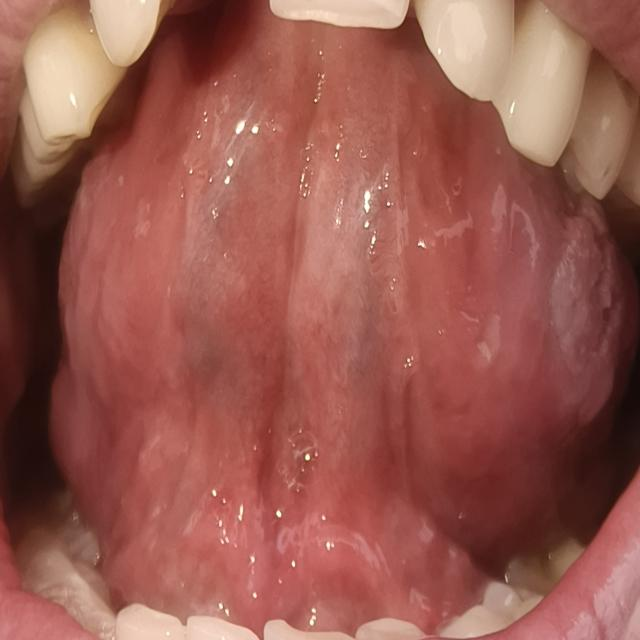processing_area: (4, 20, 628, 639)
